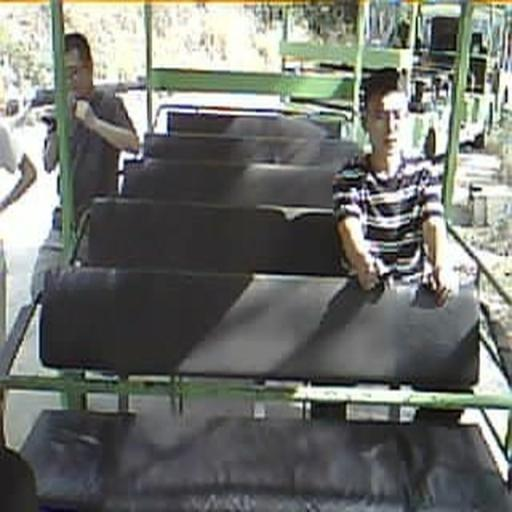persona: (329, 69, 458, 309)
